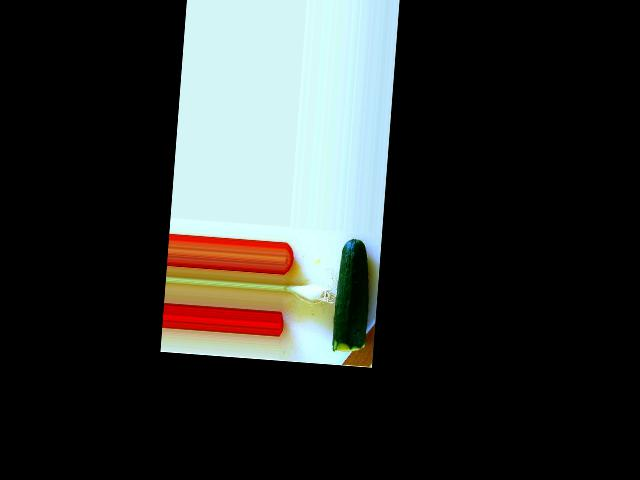cucumber: (332, 236, 373, 353)
